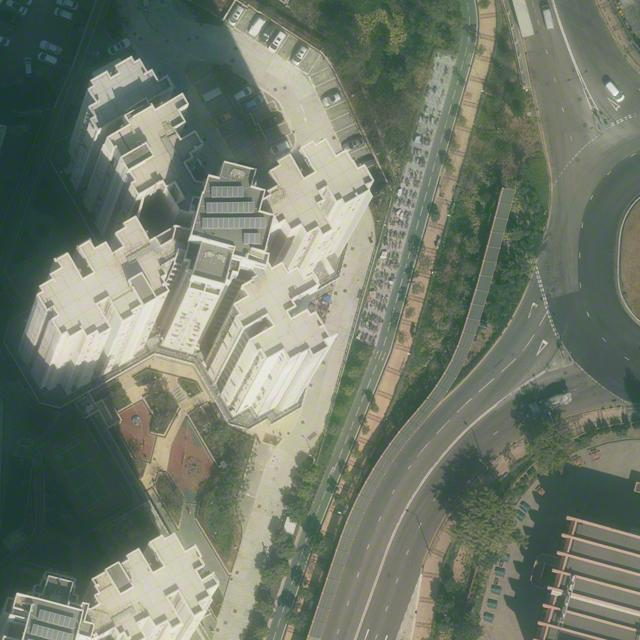panel: (201, 215, 269, 231), (36, 609, 77, 631), (206, 202, 258, 214), (209, 184, 244, 198), (244, 232, 263, 246)
